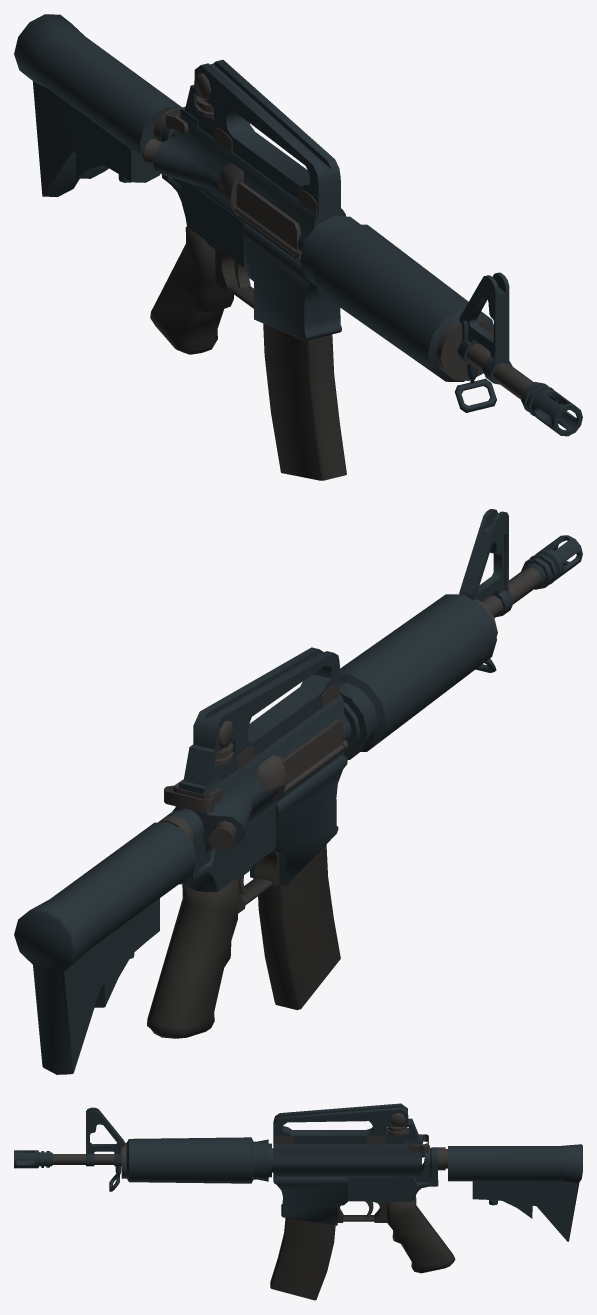
The model's file is gun.fbx.
3 views of the same model, one above another, from view 1: azimuth 30°, elevation 25°; view 2: azimuth 150°, elevation 25°; view 3: azimuth 270°, elevation 25° (orthographic). The views are drawn at different scales.
Visible parts, largest first — view 1: gun; view 2: gun; view 3: gun.
Part boxes in pixels (x1=…): gun: x1=14, y1=14, x2=582, y2=480; gun: x1=14, y1=509, x2=582, y2=1074; gun: x1=14, y1=1103, x2=582, y2=1300.
Bounding box in the file's own units: 18.06 × 72.41 × 196.
